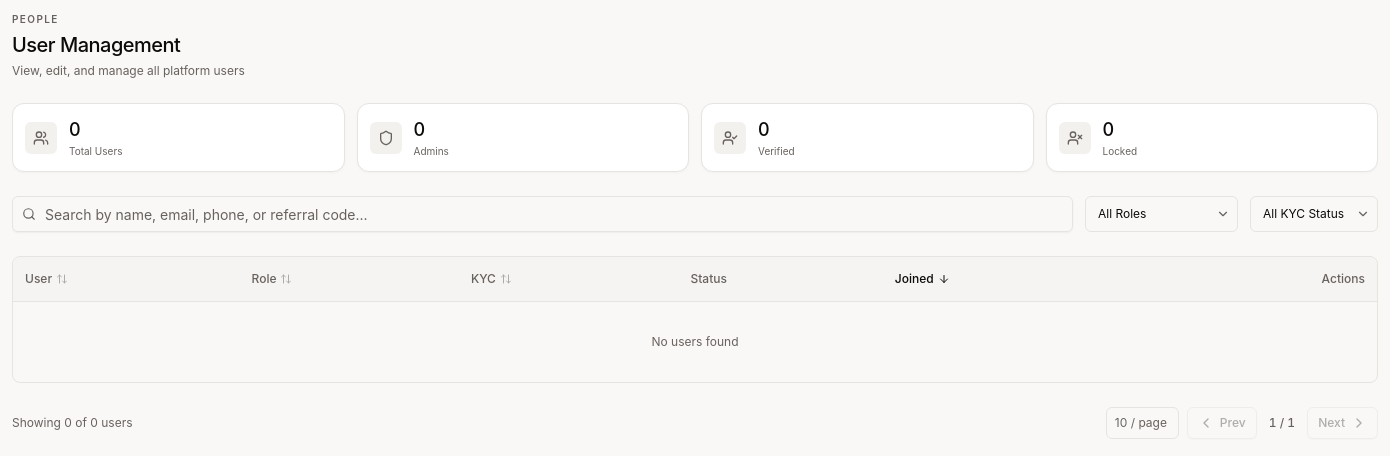
AdminUsers Page › Clear Filters › shows clear button when search is active
Expected: the text "Clear" is not shown
Type "test" into the field with placeholder "Search by name, email, phone, or referral code..." at {"x": 542, "y": 214}, box [12, 196, 1073, 232]
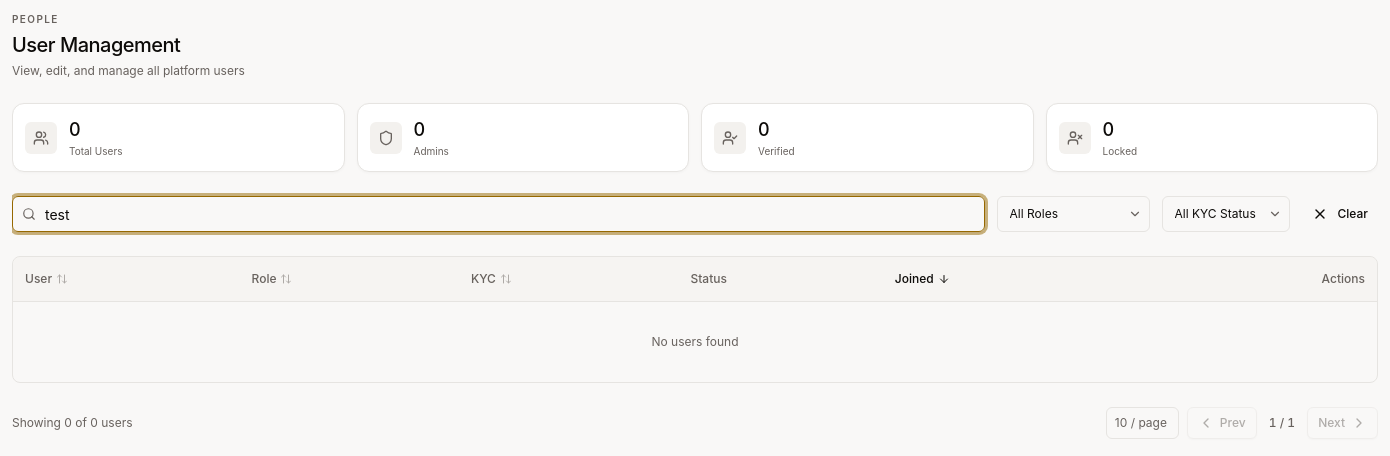
Expected: the button "Clear" is shown, [1302, 196, 1378, 232]
